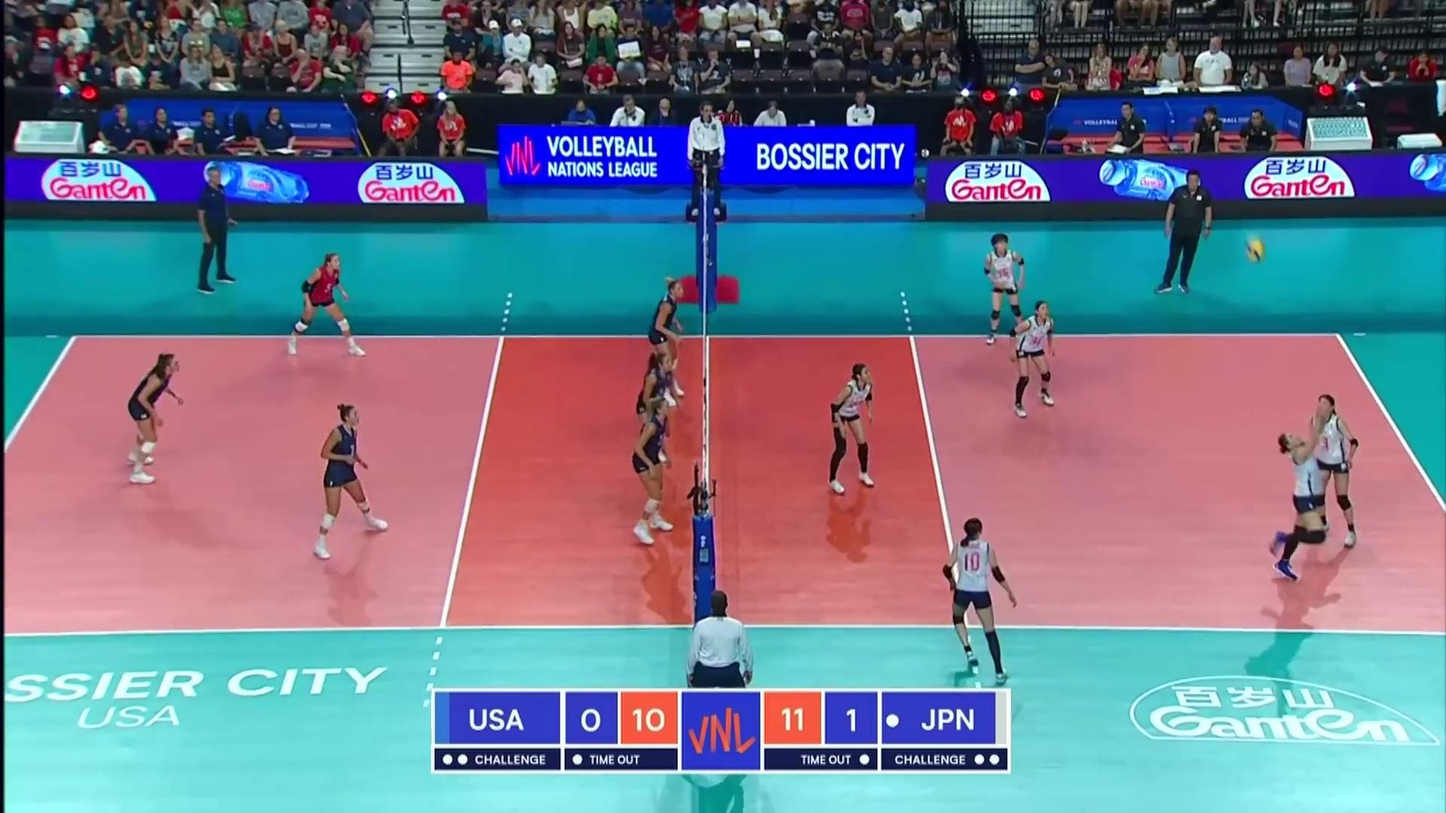player: (942, 519, 1017, 685), (314, 402, 391, 561), (1267, 418, 1325, 581), (1304, 393, 1362, 550), (285, 254, 364, 358), (123, 355, 183, 487), (629, 399, 676, 546), (826, 363, 877, 494), (634, 351, 680, 487), (1007, 302, 1056, 417), (648, 278, 690, 410), (987, 235, 1030, 347)
refree: (682, 589, 755, 690), (687, 101, 728, 212)
